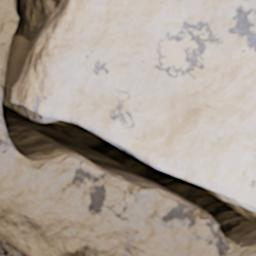brick: (12, 0, 255, 210), (0, 237, 25, 255)
crack: (0, 0, 255, 255)
